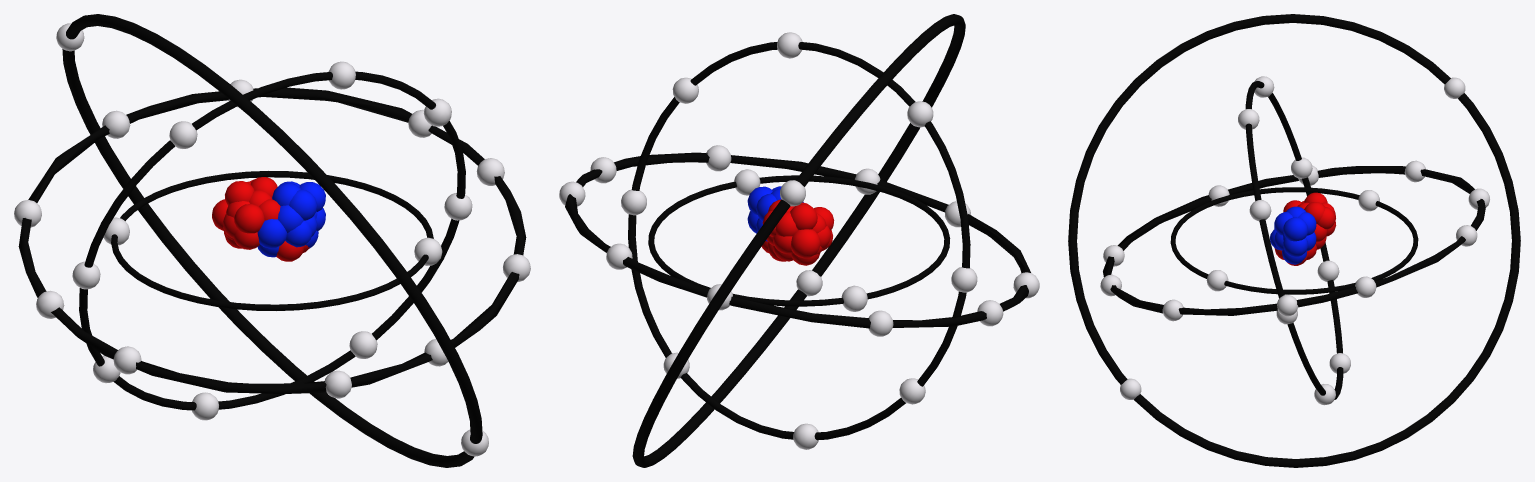
File: 22 Titanio.fbx
3 views of the same model, side by side, from view 1: azimuth 30°, elevation 25°; view 2: azimuth 150°, elevation 25°; view 3: azimuth 270°, elevation 25° (orthographic). The views are drawn at different scales.
Visible parts, largest first — view 1: Orbita.004, Orbita.003, Orbita.002, Orbita.001, Neutron.006, Neutron.004, Neutron.001, Sphere.013, Neutron.005, Electron.008, Electron.007, Electron.020 (+13 smaller); view 2: Orbita.004, Orbita.002, Orbita.003, Orbita.001, Neutron.005, Neutron.006, Sphere.008, Electron.009, Electron.001, Electron.004, Electron.007, Electron.019 (+11 smaller); view 3: Orbita.004, Orbita.003, Orbita.002, Orbita.001, Neutron.006, Neutron.003.
Boxes of the visible parts, x1,y1,x2,y2 form: Orbita.004: (62, 14, 482, 467); Orbita.003: (18, 87, 526, 393); Orbita.002: (79, 71, 465, 410); Orbita.001: (111, 171, 433, 310); Neutron.006: (279, 181, 325, 220); Neutron.004: (272, 183, 303, 232); Neutron.001: (257, 219, 286, 257); Sphere.013: (234, 204, 264, 233); Neutron.005: (212, 199, 242, 248); Electron.008: (349, 331, 377, 358); Electron.007: (169, 121, 197, 148); Electron.020: (324, 370, 351, 398); Orbita.004: (632, 14, 965, 467); Orbita.002: (628, 42, 970, 440); Orbita.003: (565, 152, 1030, 328); Orbita.001: (648, 175, 950, 306); Neutron.005: (791, 226, 831, 265); Neutron.006: (747, 186, 781, 220); Sphere.008: (790, 204, 817, 229); Electron.009: (951, 267, 977, 292); Electron.001: (841, 285, 867, 311); Electron.004: (621, 189, 646, 215); Electron.007: (907, 101, 933, 127); Electron.019: (796, 270, 822, 296); Orbita.004: (1068, 14, 1520, 467); Orbita.003: (1103, 166, 1485, 315); Orbita.002: (1245, 81, 1343, 399); Orbita.001: (1170, 187, 1418, 294); Neutron.006: (1274, 212, 1316, 241); Neutron.003: (1274, 232, 1316, 264).
Bounding box in the file's own units: 14.15 × 12.5 × 12.55.
